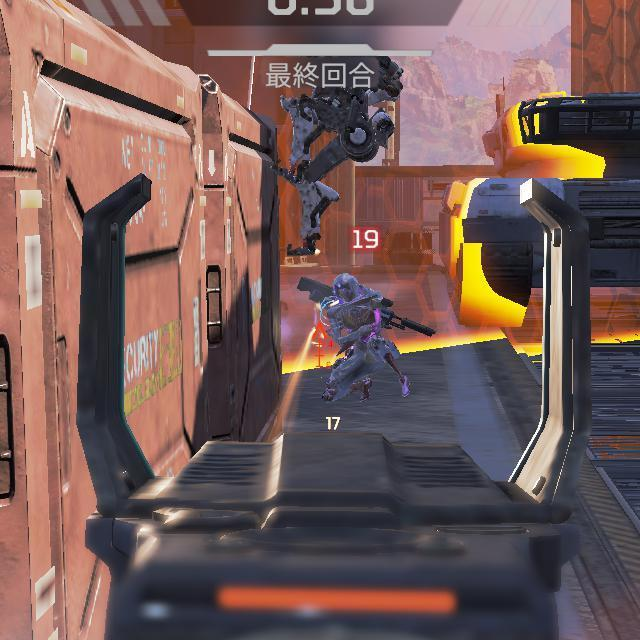avatar: (321, 270, 413, 410)
